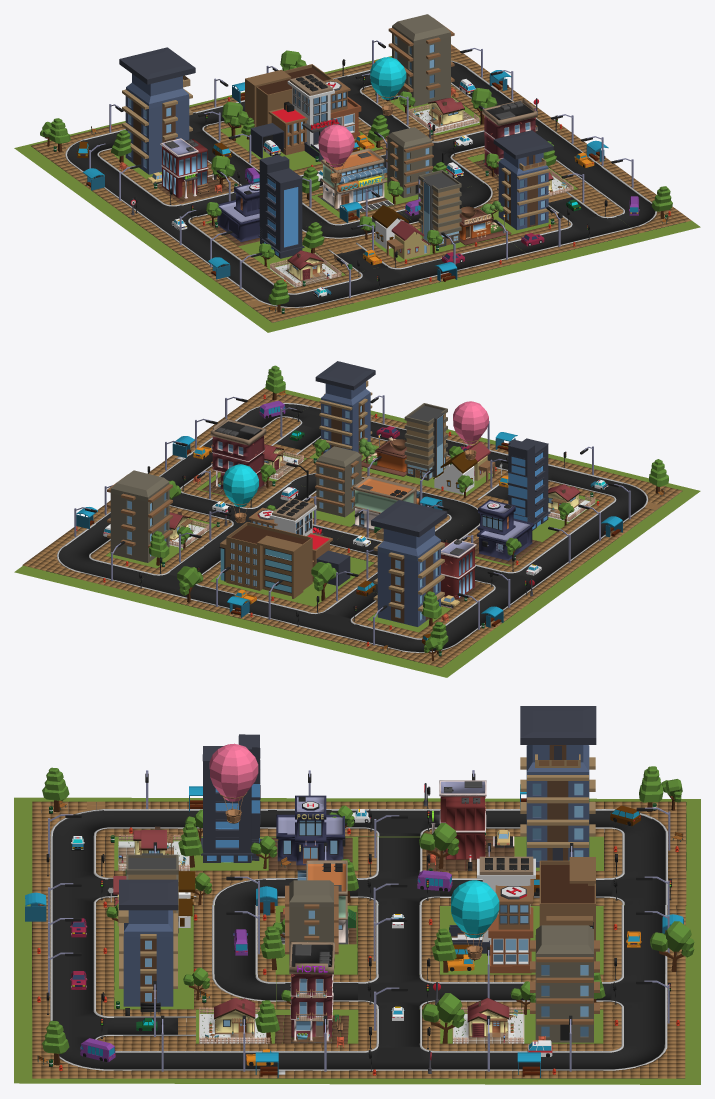
Rendered from Full City.glb.
The picture shows the model from 3 angles, top to bottom: view 1: azimuth 30°, elevation 25°; view 2: azimuth 150°, elevation 25°; view 3: azimuth 270°, elevation 25°; orthographic projection. The views are drawn at different scales.
Parts seen in each view (by area): view 1: Plane, apartment2.002, Helipad, apartment2.001, apartment.001, Grocery Store, Bank, Large Apartments, apartment, Office, Hotel, Police Station (+49 smaller); view 2: Plane, apartment2.002, apartment.001, apartment2.001, Office_2, Hotel, Helipad, Police Station, apartment, Office, Large Apartments, Cube.009 (+52 smaller); view 3: Plane, apartment2.002, apartment.001, apartment2.001, Helipad, Hotel, Bank, Police Station, Large Apartments, apartment, Road_B, Road_B.016 (+64 smaller).
Part boxes in pixels (x1,y1,x2,y2): Plane: (14, 56, 700, 332); apartment2.002: (119, 47, 195, 174); Helipad: (250, 74, 361, 161); apartment2.001: (493, 130, 553, 229); apartment.001: (388, 14, 454, 106); Grocery Store: (317, 148, 394, 214); Bank: (147, 138, 231, 203); Large Apartments: (258, 154, 304, 258); apartment: (385, 127, 433, 197); Office: (418, 170, 461, 247); Hotel: (474, 99, 537, 180); Police Station: (207, 181, 259, 246); Plane: (14, 387, 700, 677); apartment2.002: (371, 500, 447, 626); apartment.001: (107, 470, 172, 562); apartment2.001: (315, 361, 375, 454); Office_2: (220, 522, 312, 598); Hotel: (202, 418, 273, 498); Helipad: (248, 498, 350, 586); Police Station: (473, 499, 541, 564); apartment: (315, 446, 362, 517); Office: (404, 403, 447, 480); Large Apartments: (507, 438, 550, 530); Cube.009: (219, 525, 307, 593); Plane: (14, 797, 700, 1084); apartment2.002: (520, 706, 596, 867); apartment.001: (530, 925, 599, 1042); apartment2.001: (118, 879, 177, 1006); Helipad: (449, 856, 535, 973); Hotel: (275, 941, 348, 1043); Bank: (426, 780, 514, 870); Police Station: (268, 795, 352, 870); Large Apartments: (201, 734, 262, 862); apartment: (285, 880, 338, 961); Road_B: (603, 980, 685, 1044); Road_B.016: (439, 1015, 521, 1078).
Size of the model in its own units: 20.19 by 4.99 by 20.5.
74 materials, 8 textured.
